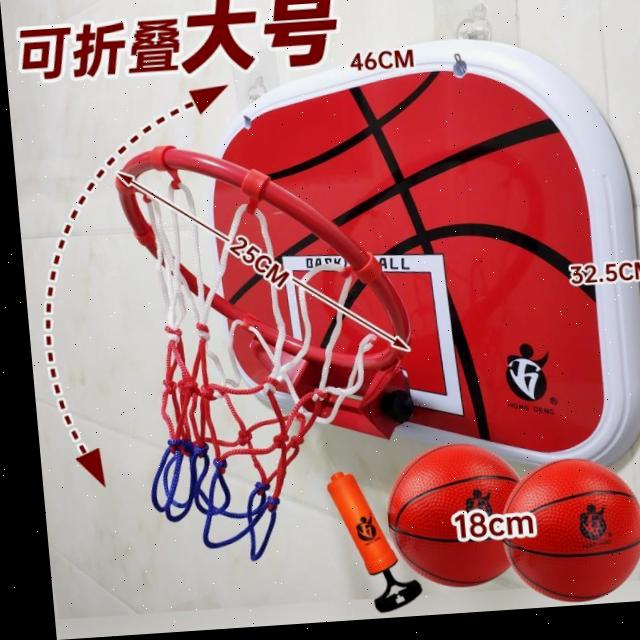basketball: (383, 439, 528, 592), (498, 455, 640, 608)
hoop: (106, 126, 431, 569)
